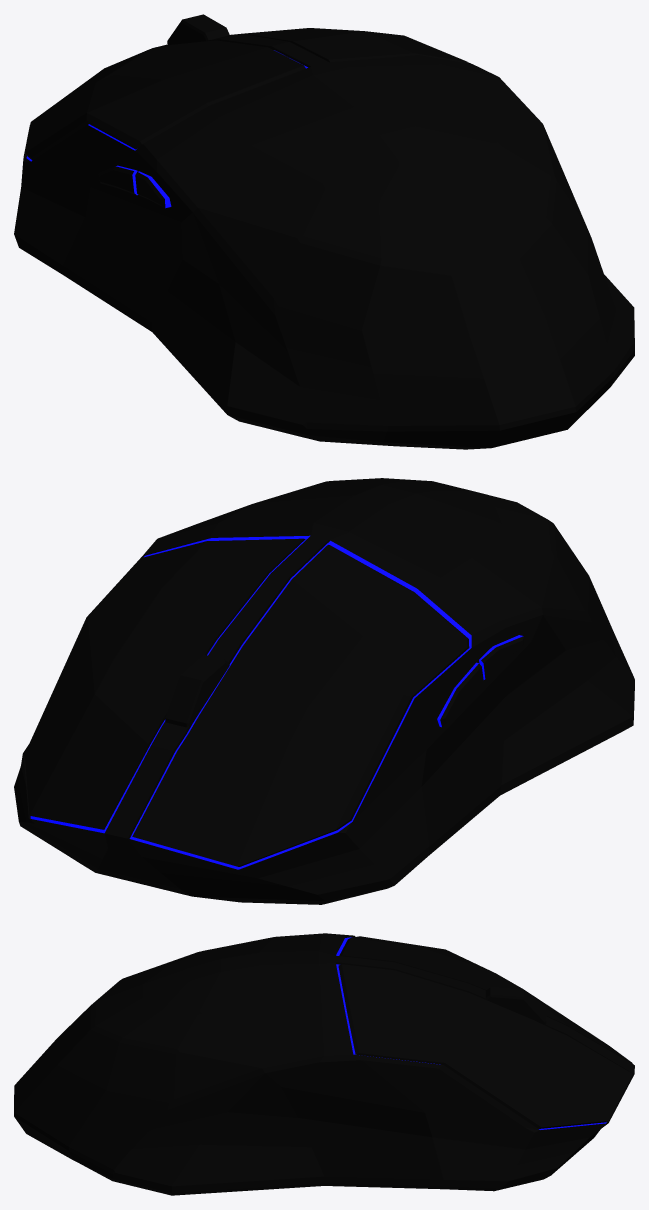
File: mouse.fbx
3 views of the same model, one above another, from view 1: azimuth 30°, elevation 25°; view 2: azimuth 150°, elevation 25°; view 3: azimuth 270°, elevation 25° (orthographic). The views are drawn at different scales.
Parts seen in each view (by area): view 1: sm_mouse; view 2: sm_mouse; view 3: sm_mouse.
Boxes of the visible parts, x1,y1,x2,y2 form: sm_mouse: [14, 14, 634, 449]; sm_mouse: [14, 478, 634, 904]; sm_mouse: [14, 933, 634, 1195].
Size of the model in its own units: 5.56 by 3.02 by 10.02.
